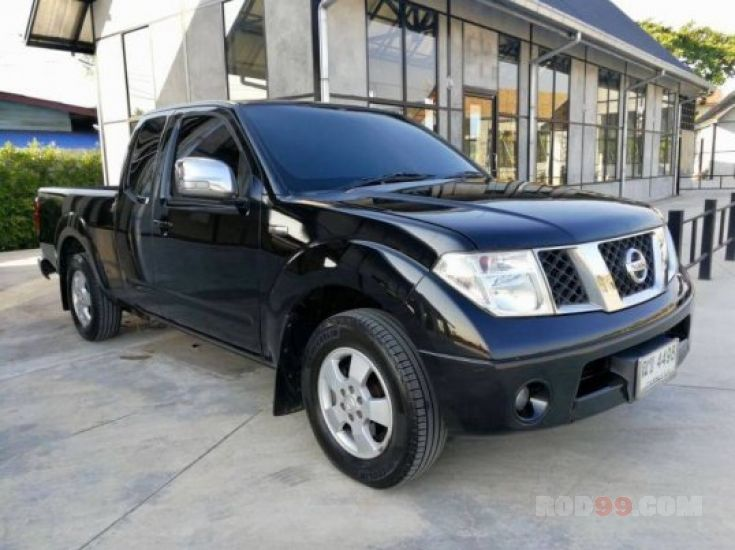pickup: (30, 93, 696, 484)
